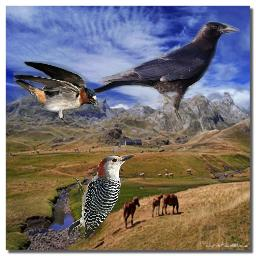Crow: (91, 20, 240, 127)
Swallow: (13, 61, 98, 124)
Woodpecker: (68, 154, 136, 239)
